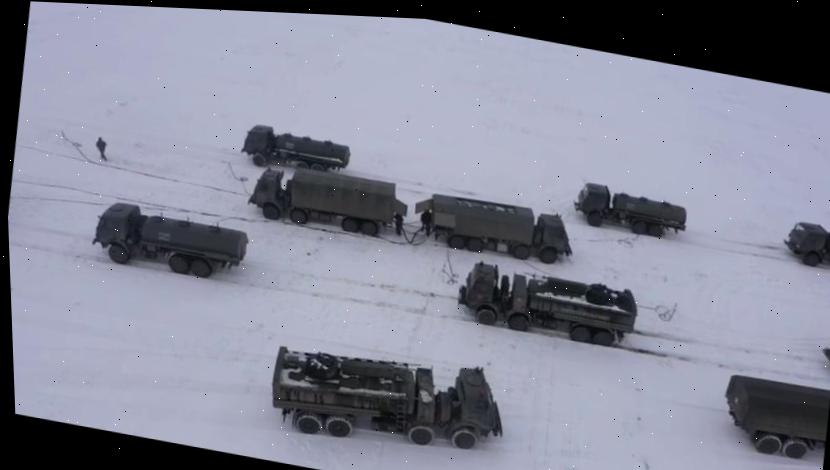person: (92, 134, 109, 160)
truck: (262, 327, 514, 470), (453, 258, 641, 351), (242, 156, 411, 244), (87, 197, 250, 287), (408, 185, 577, 270), (716, 369, 830, 465), (570, 179, 690, 242), (237, 119, 353, 182), (778, 216, 830, 271)
